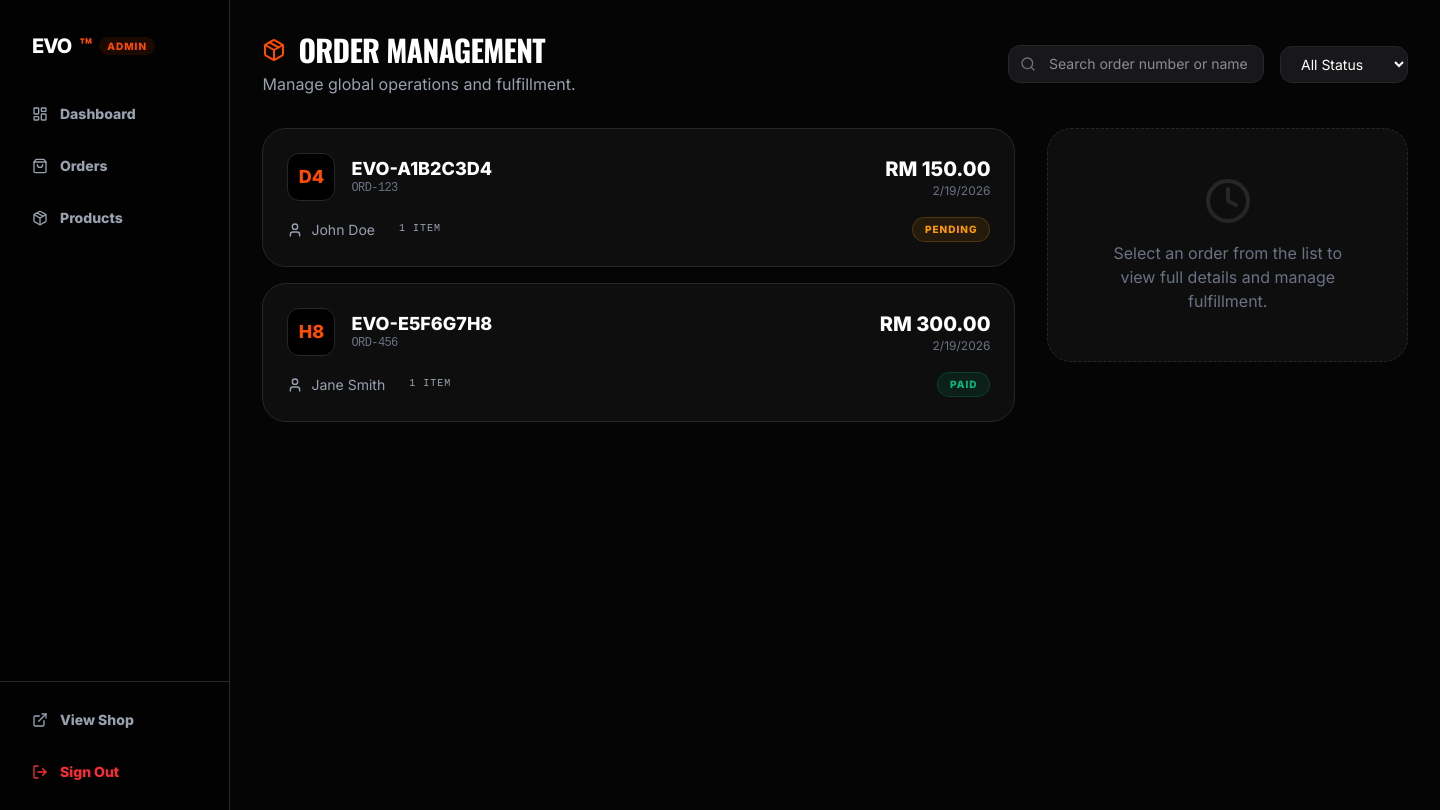
Test: Admin Orders Page › shows order details when clicked
Step 1. Click the element with test id "order-item-EVO-A1B2C3D4" → click(639, 198), box [262,128,1016,267]
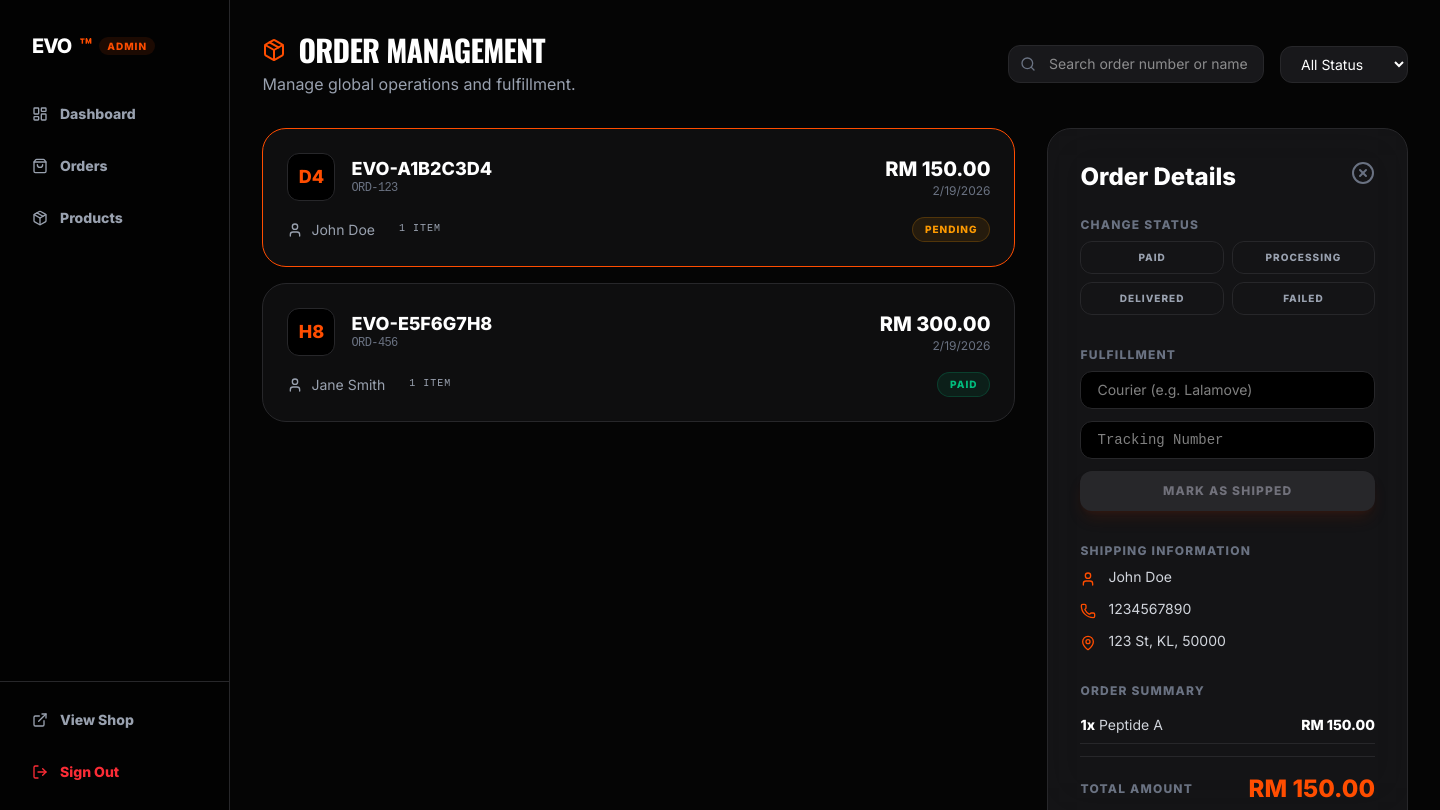
Check: the heading "Order Details" is shown, box [1080,161,1236,193]
Check: the text "123 St, KL, 50000" is shown, box [1108,631,1226,651]
Check: the text "Peptide A" is shown, box [1099,716,1163,733]
